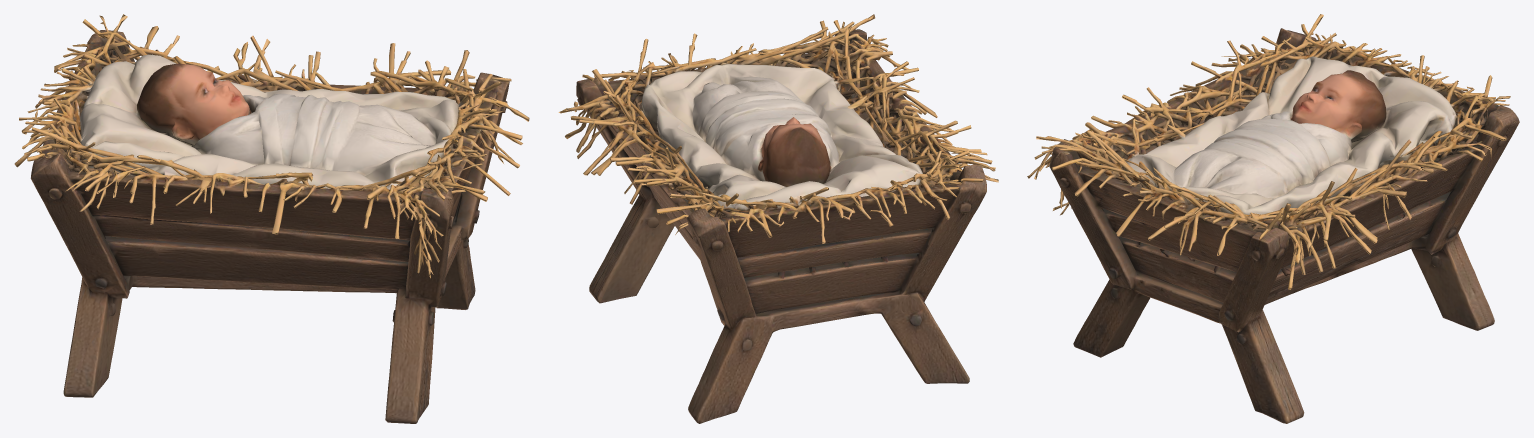
Rendered from jesus-manger-tripo-source.glb.
The picture shows the model from 3 angles, left to right: view 1: azimuth 30°, elevation 25°; view 2: azimuth 150°, elevation 25°; view 3: azimuth 270°, elevation 25°; orthographic projection. The views are drawn at different scales.
Visible parts, largest first — view 1: tripo_node_e1d50e3f-1988-400e-b5bb-b1f5f9d4e2dd; view 2: tripo_node_e1d50e3f-1988-400e-b5bb-b1f5f9d4e2dd; view 3: tripo_node_e1d50e3f-1988-400e-b5bb-b1f5f9d4e2dd.
Part boxes in pixels (box(x1,y1,x2,y2)): tripo_node_e1d50e3f-1988-400e-b5bb-b1f5f9d4e2dd: box(14, 14, 529, 423); tripo_node_e1d50e3f-1988-400e-b5bb-b1f5f9d4e2dd: box(558, 14, 998, 423); tripo_node_e1d50e3f-1988-400e-b5bb-b1f5f9d4e2dd: box(1027, 14, 1519, 423).
Bounding box in the file's own units: 1.08 × 0.5978 × 1.11.
Materials: 1 (1 with a texture image).
